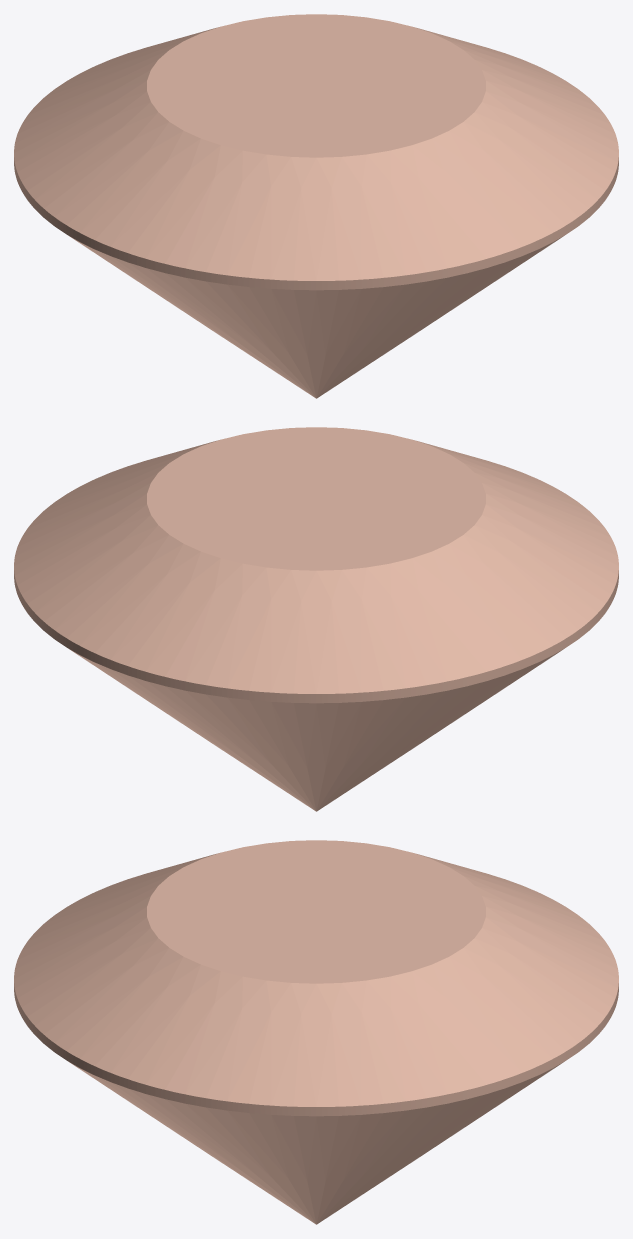
The model's file is Gem.gltf.
The picture shows the model from 3 angles, top to bottom: view 1: azimuth 30°, elevation 25°; view 2: azimuth 150°, elevation 25°; view 3: azimuth 270°, elevation 25°; orthographic projection.
Visible parts, largest first — view 1: Gem; view 2: Gem; view 3: Gem.
Part boxes in pixels (x1,y1,x2,y2): Gem: (14, 14, 618, 398); Gem: (14, 427, 618, 811); Gem: (14, 840, 618, 1224).
Size of the model in its own units: 2 by 1.14 by 2.
